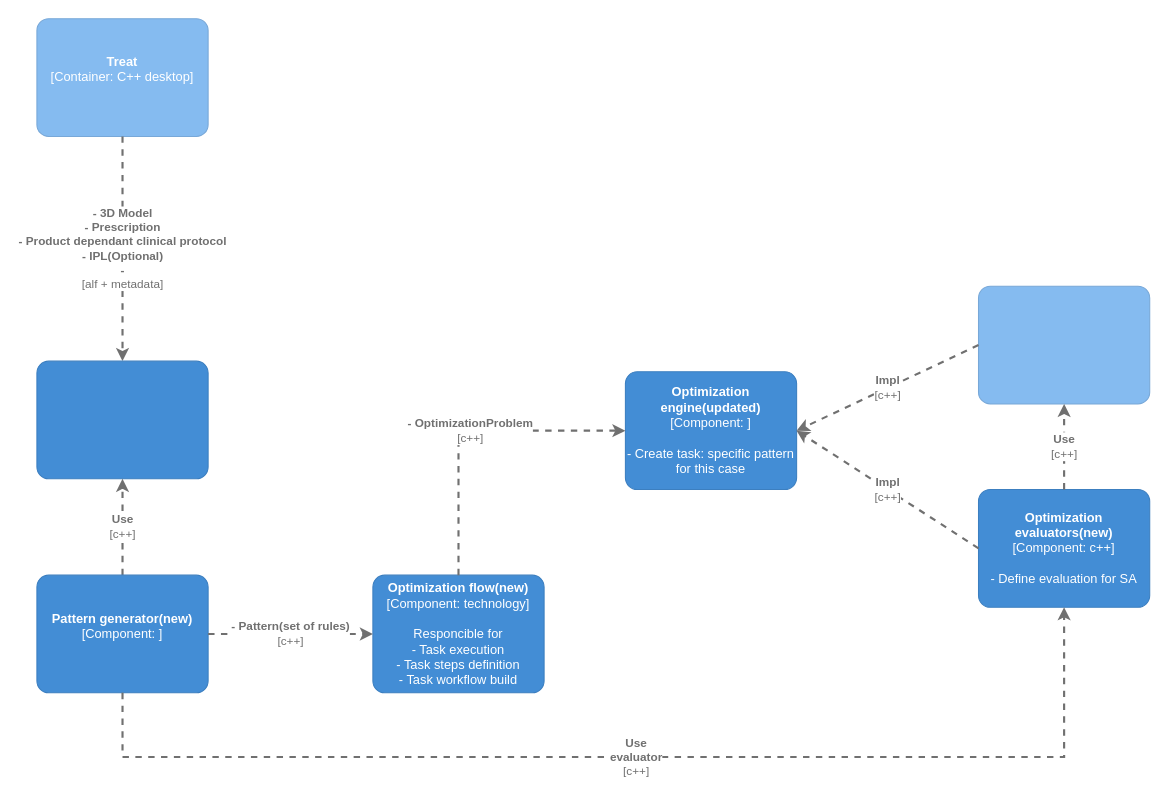
Image size: 1168x797. Some labels were removed from this diagram. The shapes that lost their labels are listed below. From the top down, each one's centre as x and y in pixels, then its label:
point 1063,344: Optimization evaluators(old) [Container: ]
point 122,419: Pattern generator(updated) [Component: technology]
